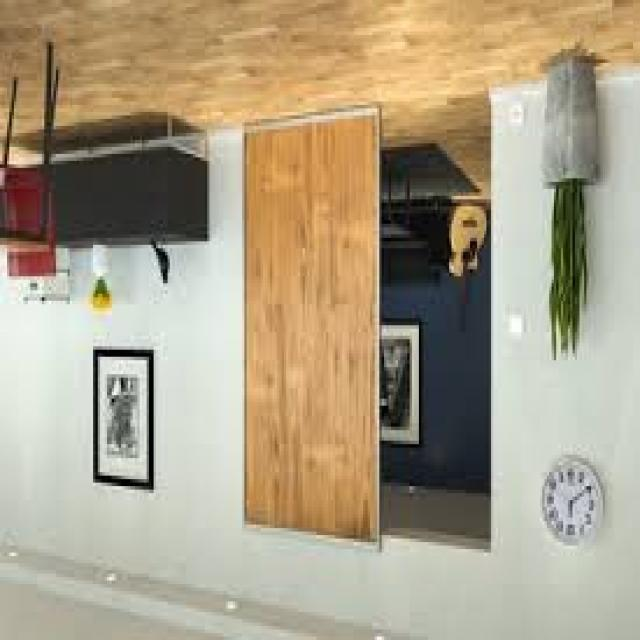door: (243, 107, 381, 547)
